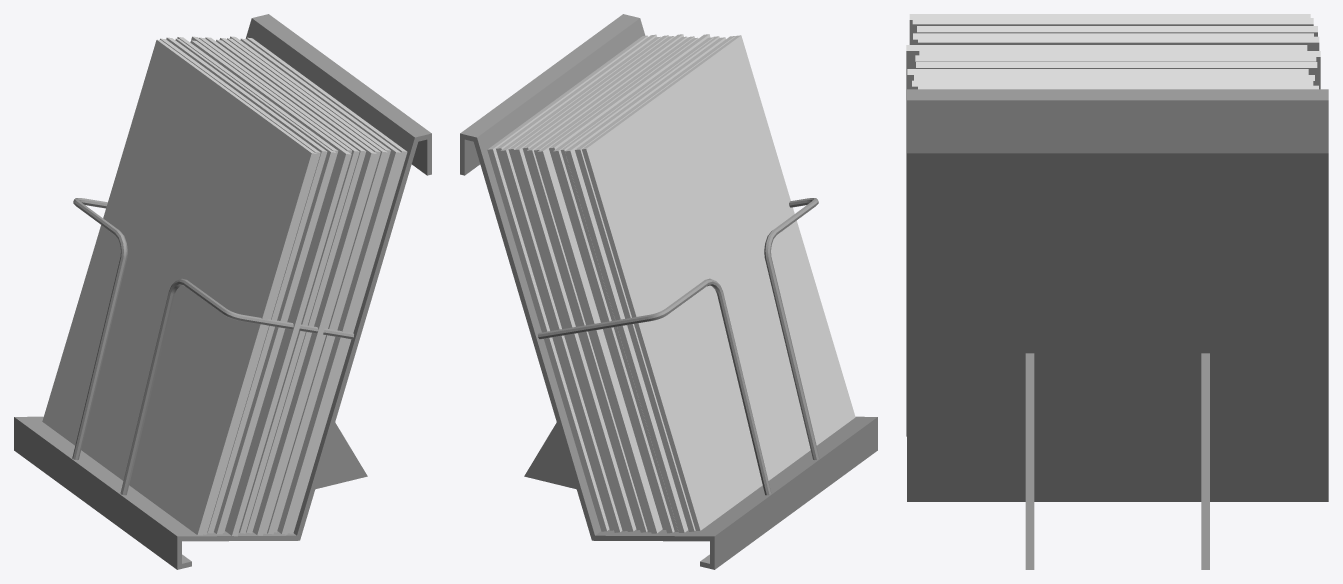
File: SM_MagazineStand_01.fbx
3 views of the same model, side by side, from view 1: azimuth 30°, elevation 25°; view 2: azimuth 150°, elevation 25°; view 3: azimuth 270°, elevation 25° (orthographic). The views are drawn at different scales.
Parts seen in each view (by area): view 1: SM_MagazineStand_01_LOD0; view 2: SM_MagazineStand_01_LOD0; view 3: SM_MagazineStand_01_LOD0.
Boxes of the visible parts, x1,y1,x2,y2 form: SM_MagazineStand_01_LOD0: (14,14,431,569); SM_MagazineStand_01_LOD0: (460,14,877,569); SM_MagazineStand_01_LOD0: (906,14,1328,569).
Size of the model in its own units: 21.62 by 24.04 by 31.13.
4 materials, 4 textured.
